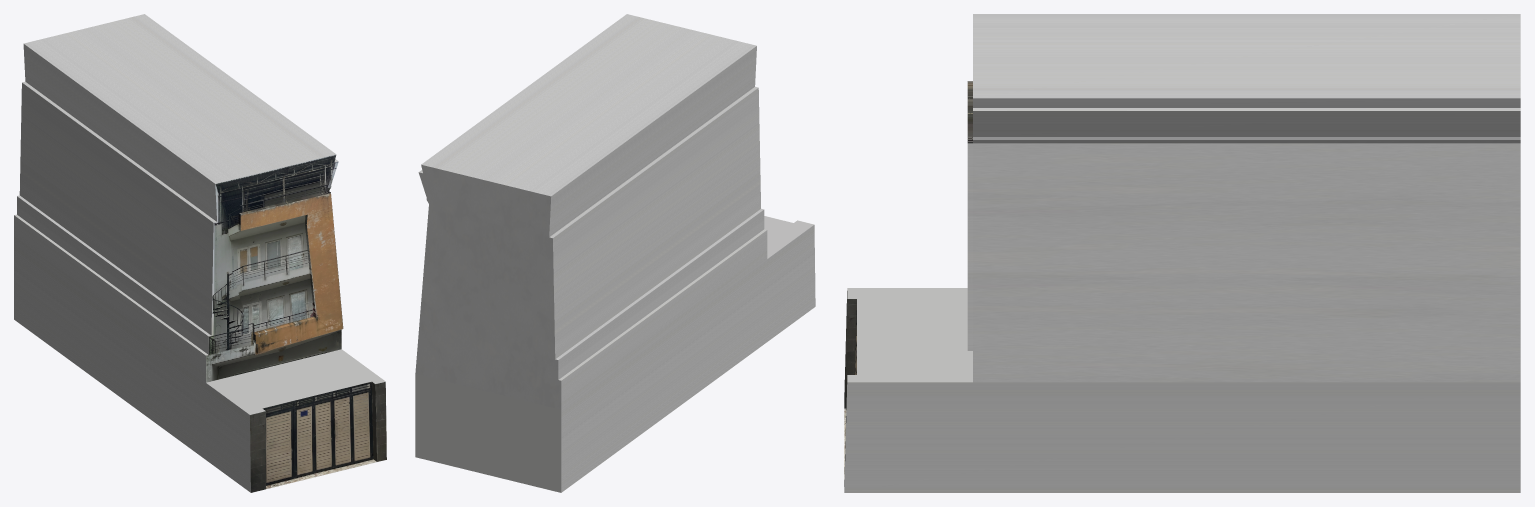
The model's file is RefHouse4.fbx.
The picture shows the model from 3 angles, left to right: view 1: azimuth 30°, elevation 25°; view 2: azimuth 150°, elevation 25°; view 3: azimuth 270°, elevation 25°; orthographic projection. The views are drawn at different scales.
Visible parts, largest first — view 1: ReferenceHouse4; view 2: ReferenceHouse4; view 3: ReferenceHouse4.
Part boxes in pixels (x1,y1,x2,y2): ReferenceHouse4: (14,14,386,492); ReferenceHouse4: (415,14,815,492); ReferenceHouse4: (844,14,1520,492).
Size of the model in its own units: 684 by 1318 by 2066.
2 materials, 2 textured.
